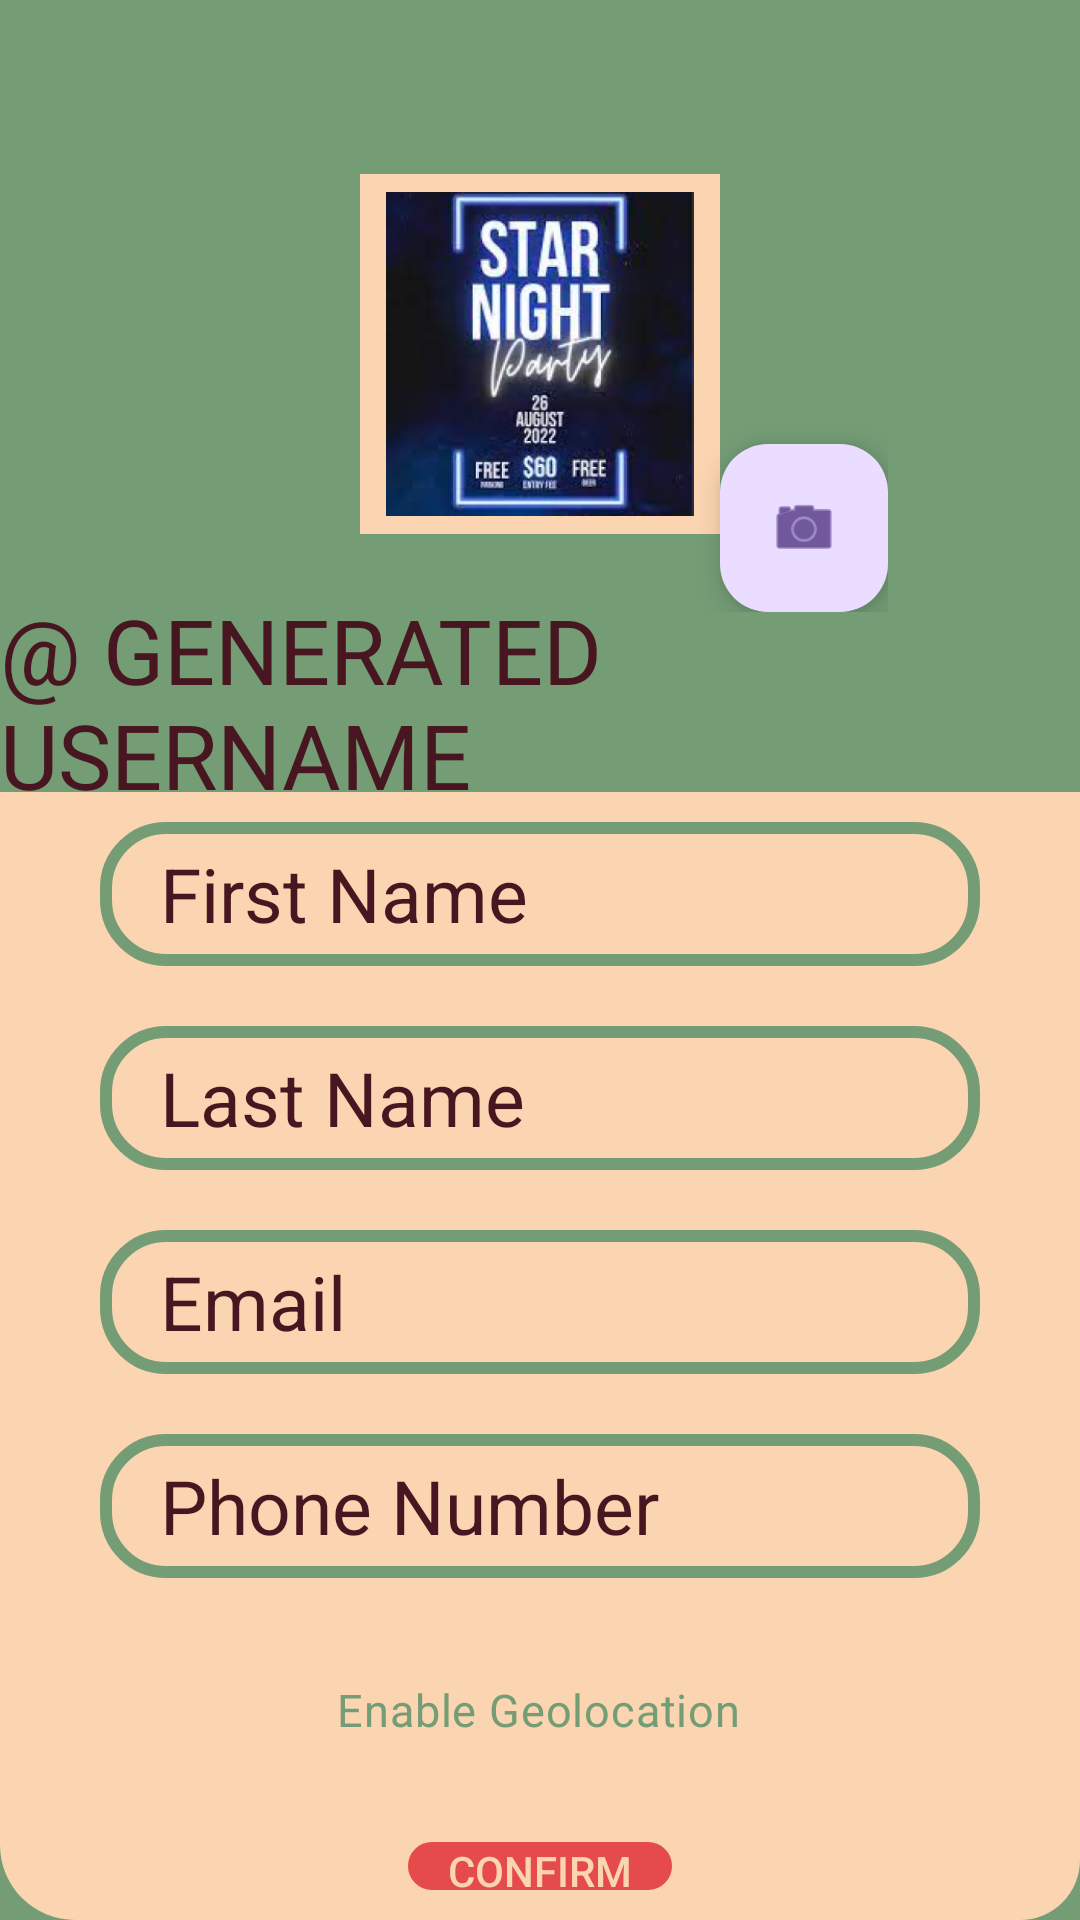

Icon bounding boxes for this 1080 x 1920 phone screenshot, format (x1=x1, y1=y1, x2=x2, y2=y2):
camera: (x1=720, y1=444, x2=888, y2=612)
